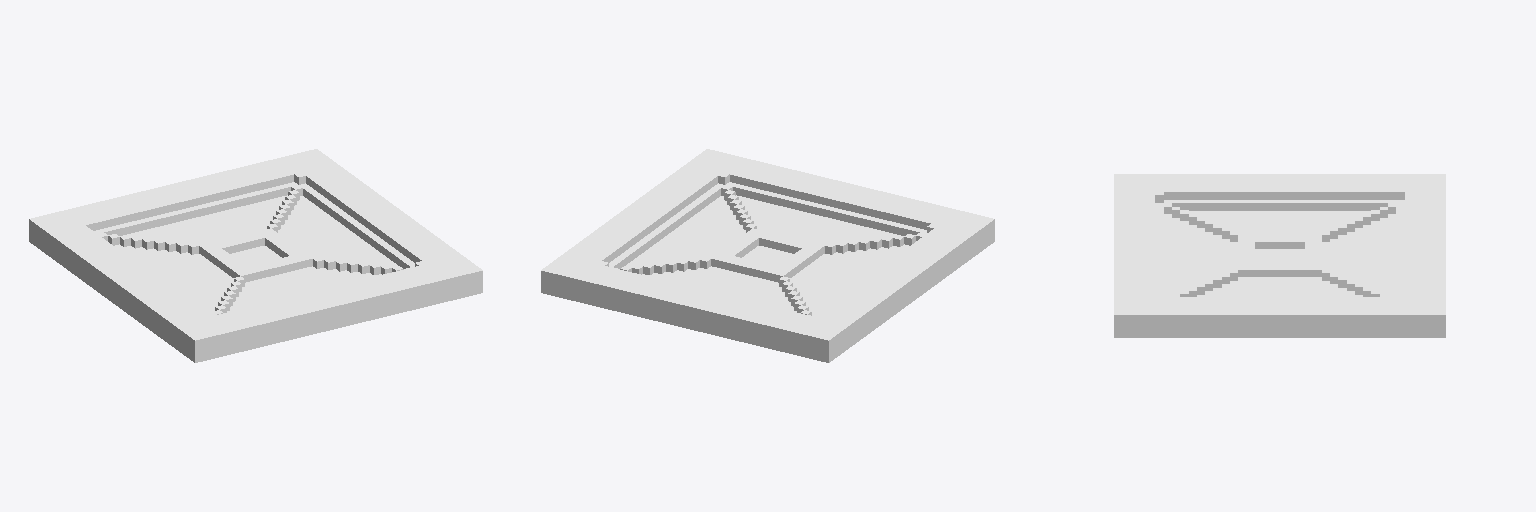
The model's file is base_cub.obj.
The picture shows the model from 3 angles: view 1: azimuth 30°, elevation 25°; view 2: azimuth 150°, elevation 25°; view 3: azimuth 270°, elevation 25°; orthographic projection.
Parts seen in each view (by area): view 1: object 1; view 2: object 1; view 3: object 1.
Part boxes in pixels (x1,y1,x2,y2): object 1: (29,149,482,362); object 1: (541,149,994,362); object 1: (1114,174,1445,337).
Size of the model in its own units: 4 by 0.3 by 4.